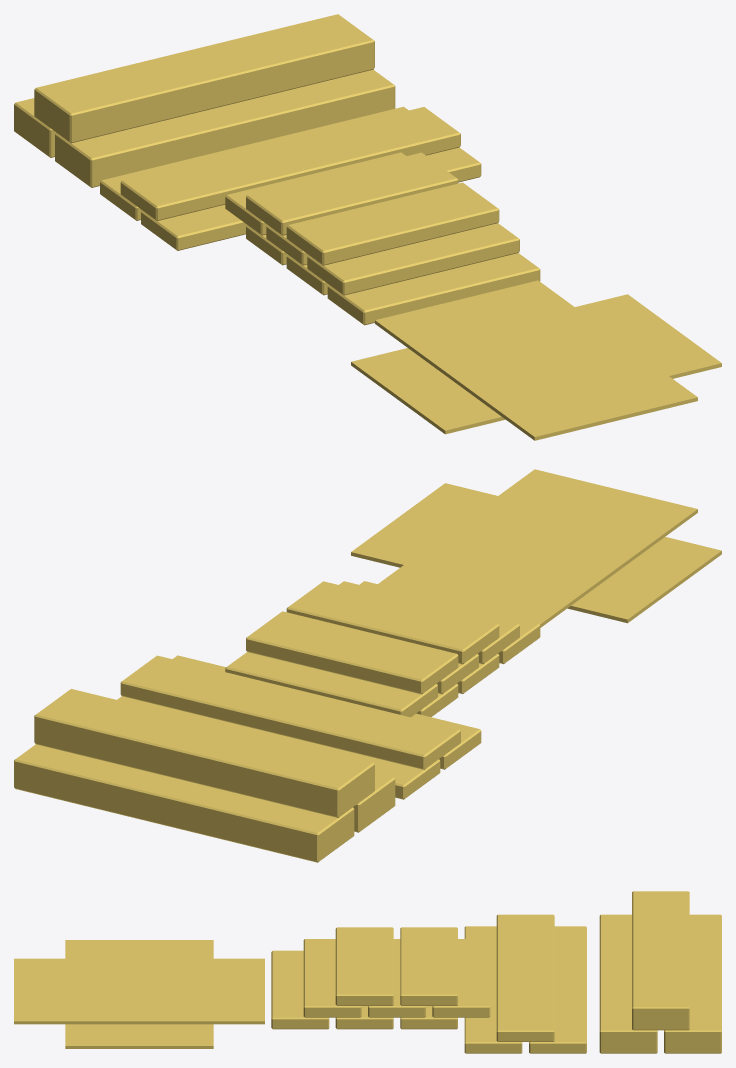
Rendered from step3.glb.
3 renders of one model, top to bottom at view 1: azimuth 30°, elevation 25°; view 2: azimuth 150°, elevation 25°; view 3: azimuth 270°, elevation 25°, orthographic. The views are drawn at different scales.
Parts seen in each view (by area): view 1: base2.005, base1.003, base1.002, base2.001, base1.005, beam3.001, beam3.002, beam1.004, beam1.001, base2.003, base2.002, beam2.002 (+1 smaller); view 2: base2.005, base1.003, base1.001, base2.001, base1.005, beam3.002, beam3.001, beam2.002, base2.002, beam1.001, beam1.004, base1.002 (+3 smaller); view 3: base2.005, base1.003, base2.001, base1.005, base1.002, base1.001, beam3.001, beam3.002, base2.002, beam1.001, beam1.004, beam2.002 (+4 smaller).
Boxes of the visible parts, x1,y1,x2,y2 form: base2.005: (375,280,697,440); base1.003: (34,14,374,143); base1.002: (55,69,395,187); base2.001: (120,107,460,220); base1.005: (351,294,721,434); beam3.001: (286,182,499,265); beam3.002: (246,152,458,235); beam1.004: (307,223,519,295); beam1.001: (327,253,540,325); base2.003: (141,147,481,250); base2.002: (100,106,408,220); beam2.002: (225,152,406,235); base2.005: (378,469,697,627); base1.003: (34,689,374,817); base1.001: (14,744,354,862); base2.001: (120,655,460,769); base1.005: (351,483,721,623); beam3.002: (246,611,458,694); beam3.001: (286,581,499,664); beam2.002: (225,652,437,717); base2.002: (117,696,440,799); beam1.001: (359,581,540,664); beam1.004: (339,581,519,664); base1.002: (353,772,395,832); base2.005: (14,958,264,1024); base1.003: (632,891,689,1030); base2.001: (496,914,554,1041); base1.005: (65,940,213,1048); base1.002: (599,914,657,1053); base1.001: (664,914,721,1053); beam3.001: (335,927,393,1005); beam3.002: (400,927,457,1005); base2.002: (529,926,586,1053); beam1.001: (271,950,329,1029); beam1.004: (303,939,361,1017); beam2.002: (432,939,490,1017).
Bounding box in the file's own units: 0.43 × 0.08 × 1.1.
